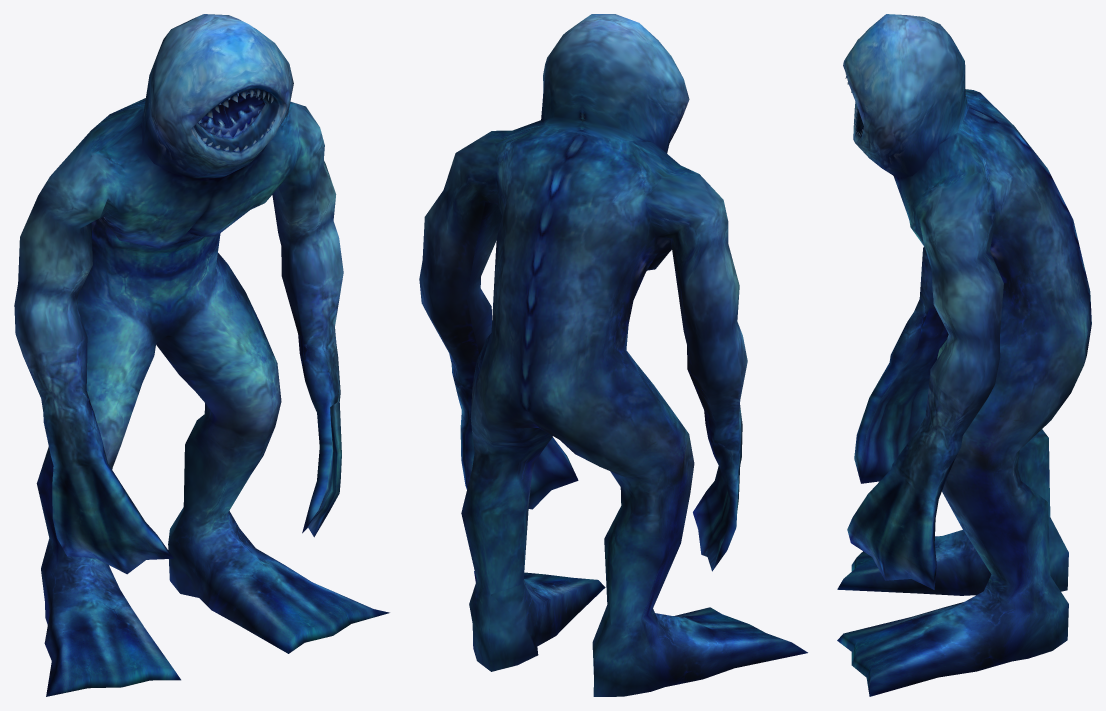
Rendered from Rahab.fbx.
The picture shows the model from 3 angles, left to right: view 1: azimuth 30°, elevation 25°; view 2: azimuth 150°, elevation 25°; view 3: azimuth 270°, elevation 25°; orthographic projection. The views are drawn at different scales.
Parts seen in each view (by area): view 1: Body; view 2: Body; view 3: Body.
Boxes of the visible parts, bbox=[...] form: Body: bbox=[14, 14, 389, 696]; Body: bbox=[419, 14, 807, 696]; Body: bbox=[837, 14, 1091, 696].
Size of the model in its own units: 756 by 1299 by 497.
1 material, 1 textured.
